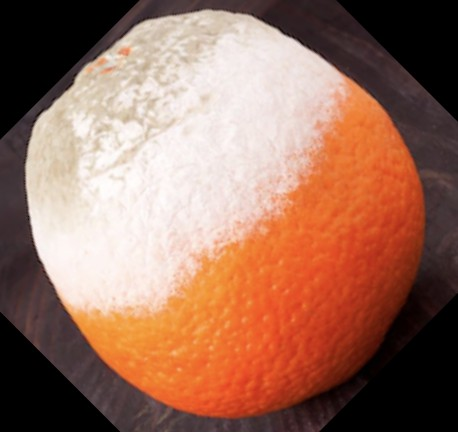rotten_orange: (26, 11, 425, 417)
